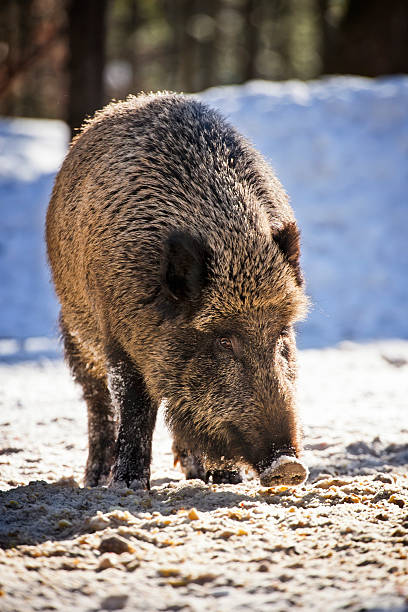pig: (88, 230, 331, 499)
